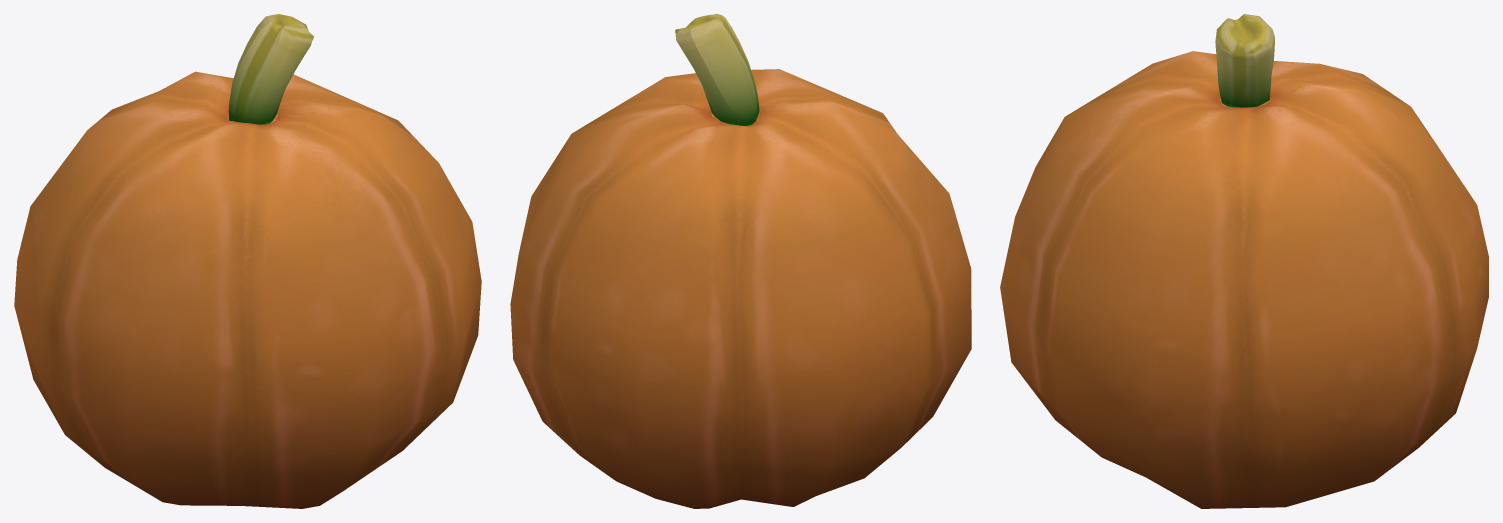
The model's file is pumkin.glb.
3 views of the same model, side by side, from view 1: azimuth 30°, elevation 25°; view 2: azimuth 150°, elevation 25°; view 3: azimuth 270°, elevation 25° (orthographic). The views are drawn at different scales.
Parts seen in each view (by area): view 1: g (×2); view 2: g (×2); view 3: g (×2).
Part boxes in pixels (<box>): g (×2): <box>14,14,481,508</box>; g (×2): <box>510,14,971,508</box>; g (×2): <box>1000,14,1488,508</box>.
Size of the model in its own units: 1.85 by 2 by 1.89.
Materials: 1 (1 with a texture image).
